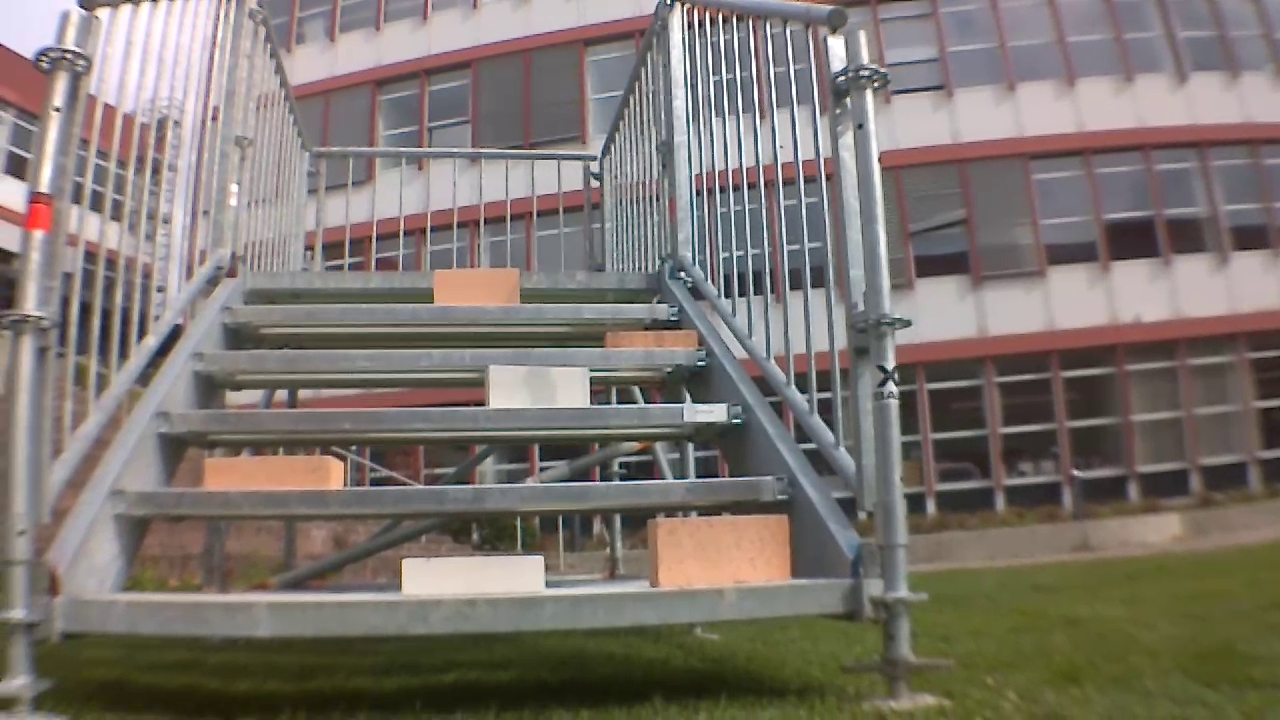brick: (649, 513, 794, 591), (401, 554, 551, 597), (198, 453, 345, 492), (482, 369, 589, 410), (423, 267, 527, 305), (609, 331, 706, 349)
edge: (60, 581, 865, 637), (108, 473, 795, 518), (150, 405, 751, 436), (191, 348, 717, 375), (220, 302, 687, 326), (244, 272, 660, 288)
stairs: (17, 0, 906, 667)
steps: (50, 268, 846, 638)
